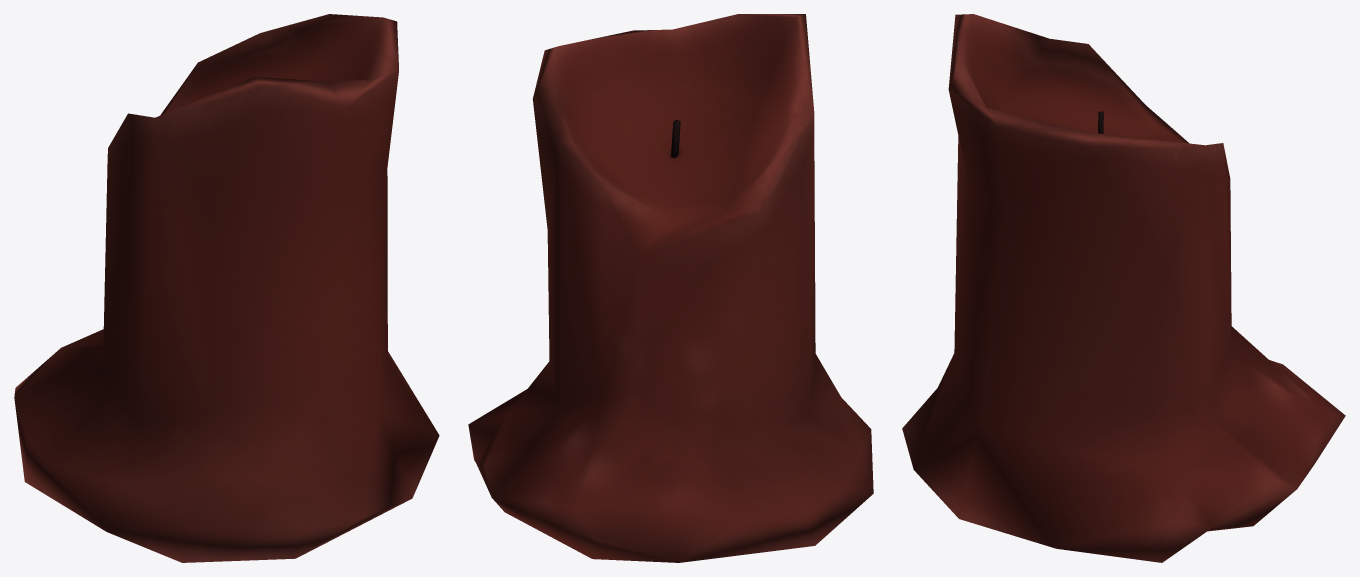
File: SM_Candles_3.fbx
The picture shows the model from 3 angles, left to right: view 1: azimuth 30°, elevation 25°; view 2: azimuth 150°, elevation 25°; view 3: azimuth 270°, elevation 25°; orthographic projection. The views are drawn at different scales.
Visible parts, largest first — view 1: SM_Candles_3_LOD0; view 2: SM_Candles_3_LOD0; view 3: SM_Candles_3_LOD0.
Part boxes in pixels (x1=…): SM_Candles_3_LOD0: x1=14, y1=14, x2=439, y2=562; SM_Candles_3_LOD0: x1=468, y1=14, x2=873, y2=562; SM_Candles_3_LOD0: x1=902, y1=14, x2=1345, y2=562.
Size of the model in its own units: 13.33 by 14.33 by 15.9.
